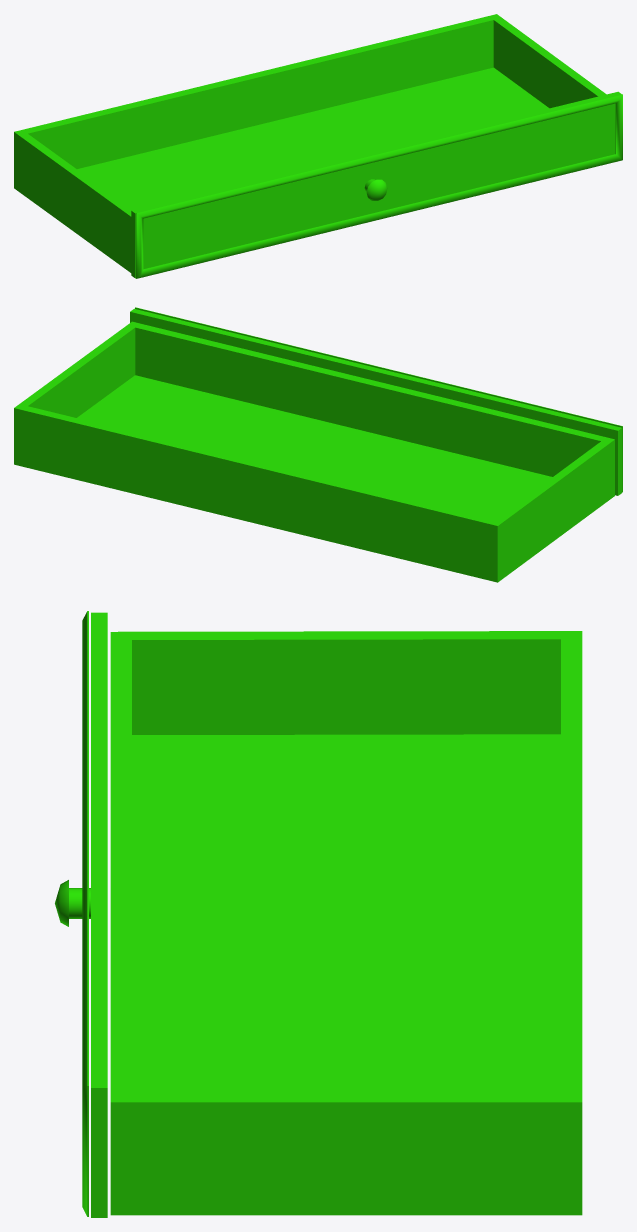
Rendered from Cupboard_12_Drawer.fbx.
3 views of the same model, one above another, from view 1: azimuth 30°, elevation 25°; view 2: azimuth 150°, elevation 25°; view 3: azimuth 270°, elevation 25° (orthographic). The views are drawn at different scales.
Visible parts, largest first — view 1: Cupboard_12_Drawer; view 2: Cupboard_12_Drawer; view 3: Cupboard_12_Drawer.
Boxes of the visible parts, box(x1,y1,x2,y2) form: Cupboard_12_Drawer: box(14, 14, 622, 278); Cupboard_12_Drawer: box(14, 307, 622, 582); Cupboard_12_Drawer: box(55, 611, 582, 1217).
Bounding box in the file's own units: 90.69 × 11.71 × 42.52.
